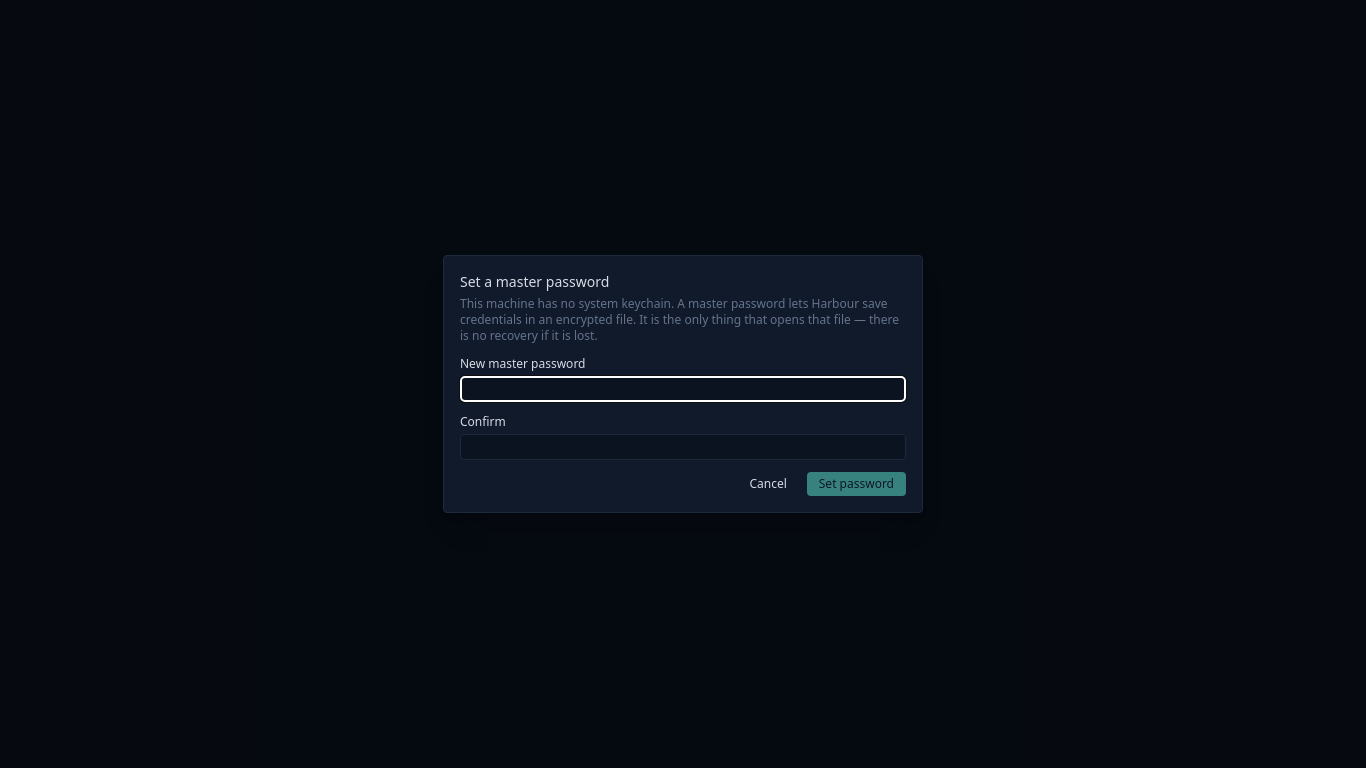
Test: setting a master password › needs the password entered twice and matching
Expected: the button "Set password" is disabled, [807,472,906,496]
Type "correct horse" into the password field labelled "New master password" at (683, 389), box [460,376,906,402]
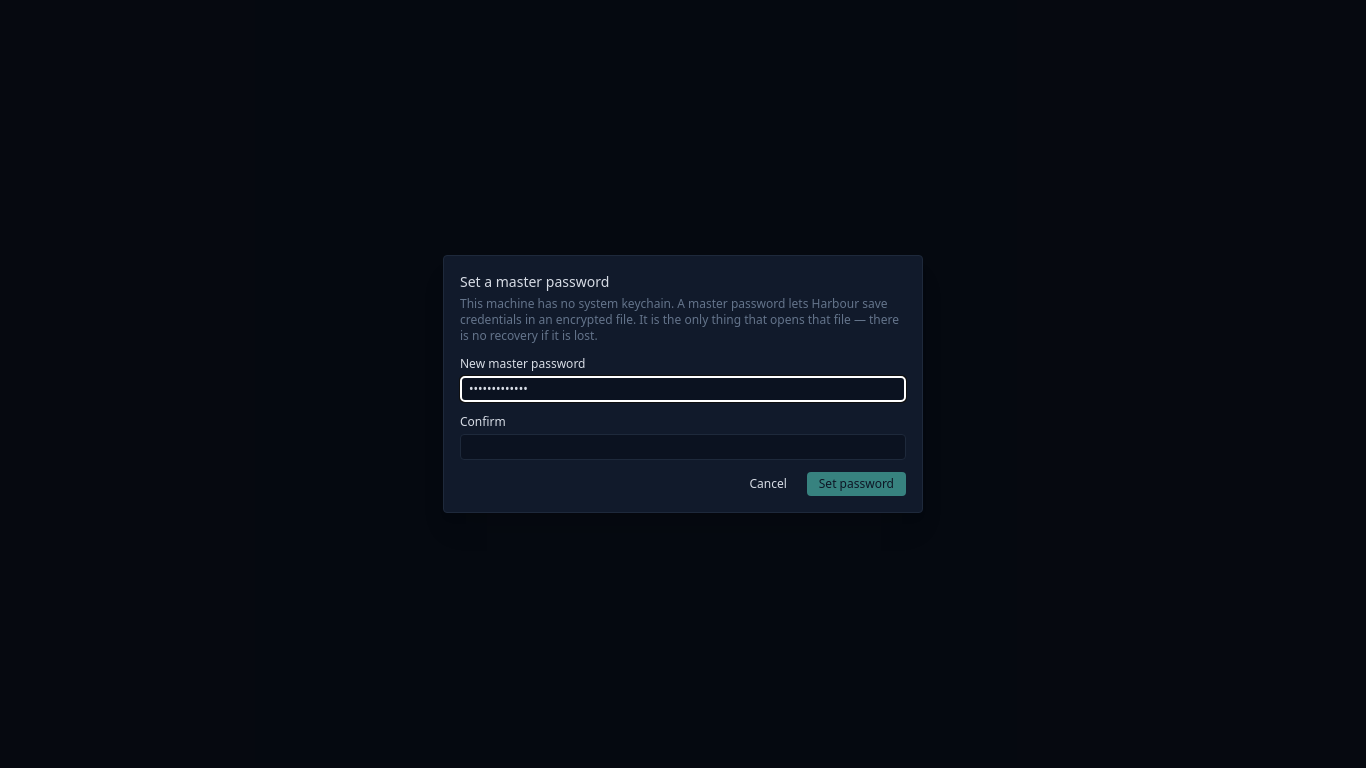
Type "wrong" into the password field labelled "Confirm" at (683, 447), box [460,434,906,460]
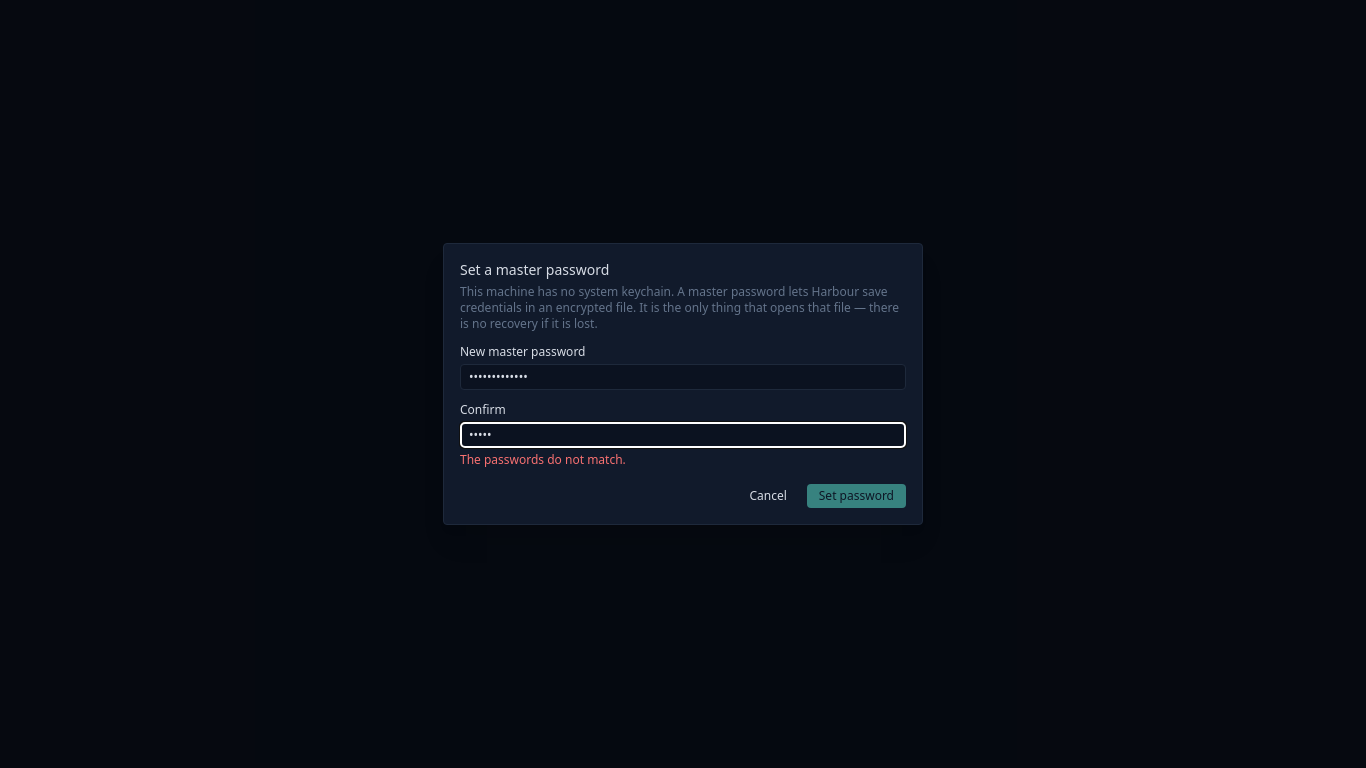
Expected: the button "Set password" is disabled, [807,484,906,508]
Expected: the text "The passwords do not match." is shown, [460,451,626,468]
